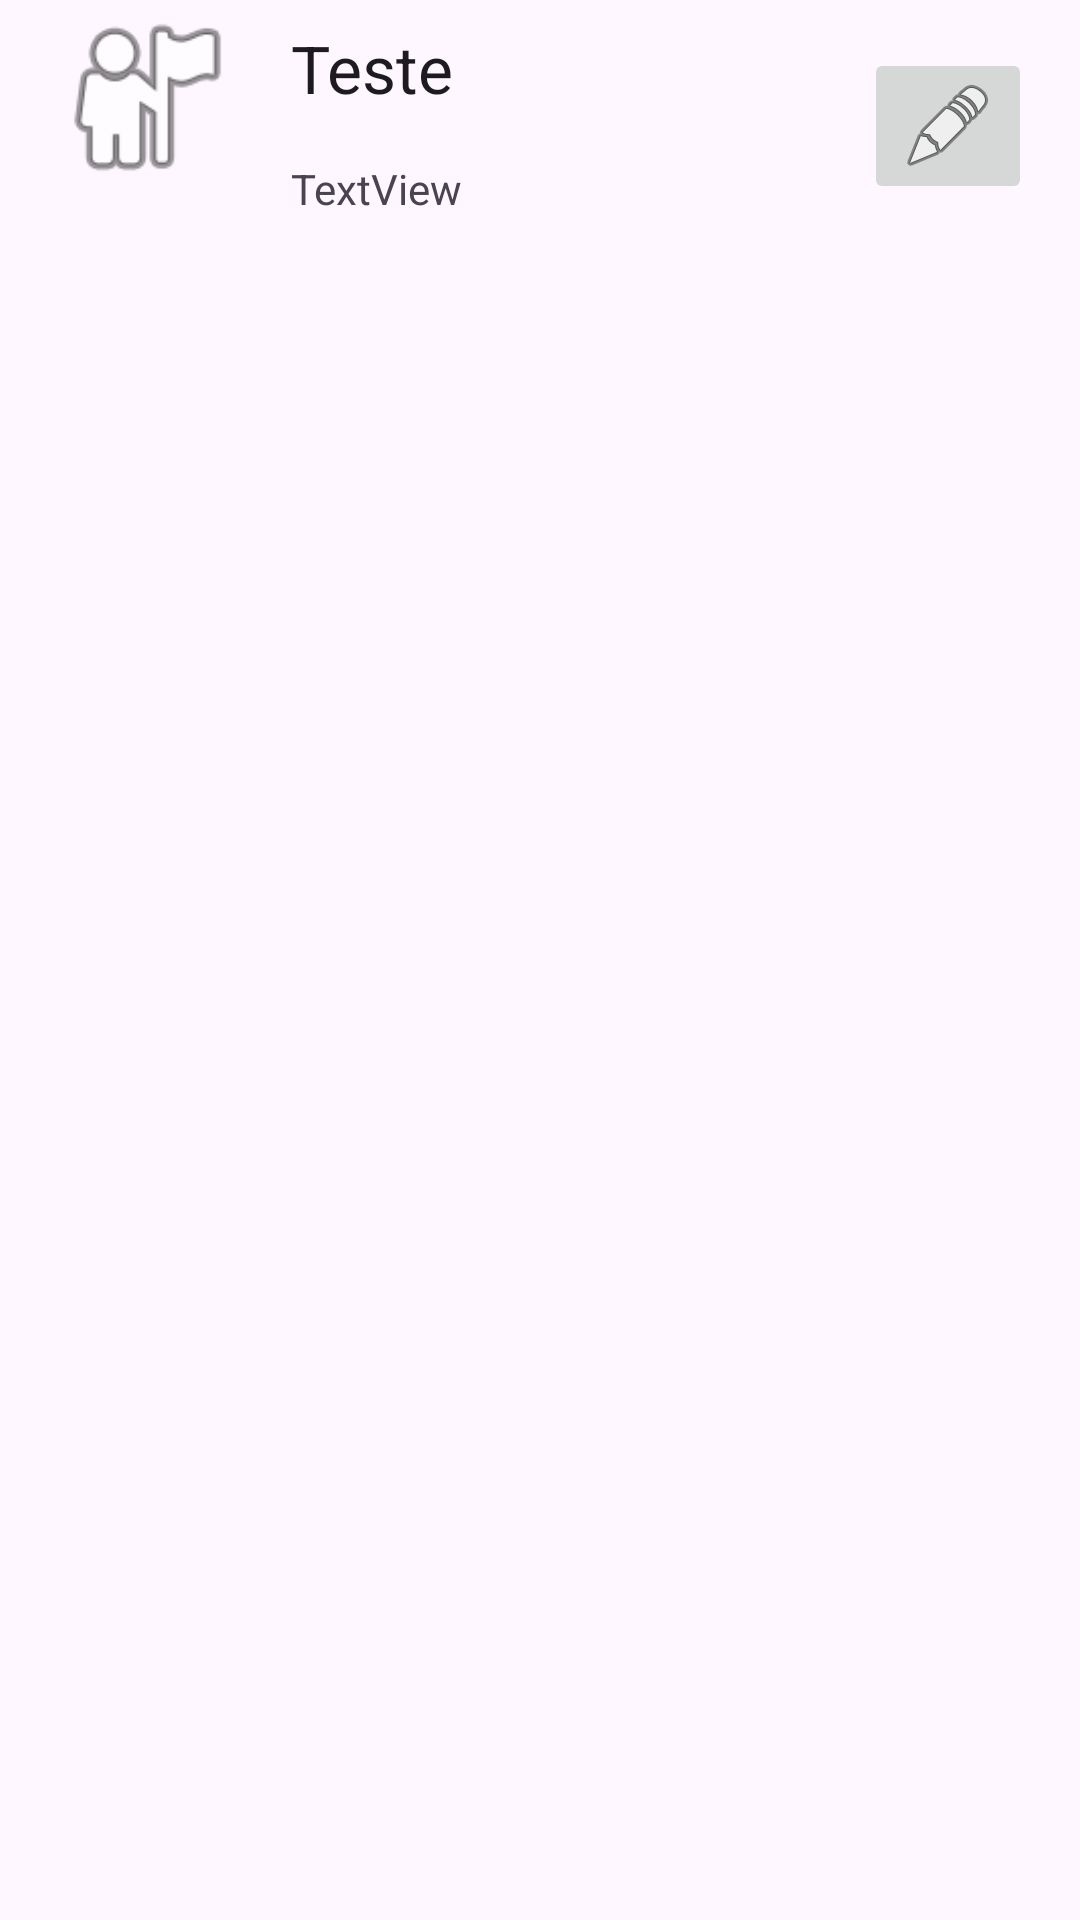

Locate icon controls on the screen. Image size 1080×1920, boxes as [x1=x1, y1=y1, x2=x2, y2=y2].
edit: [x1=876, y1=66, x2=1020, y2=186]
myplaces: [x1=74, y1=24, x2=221, y2=171]
